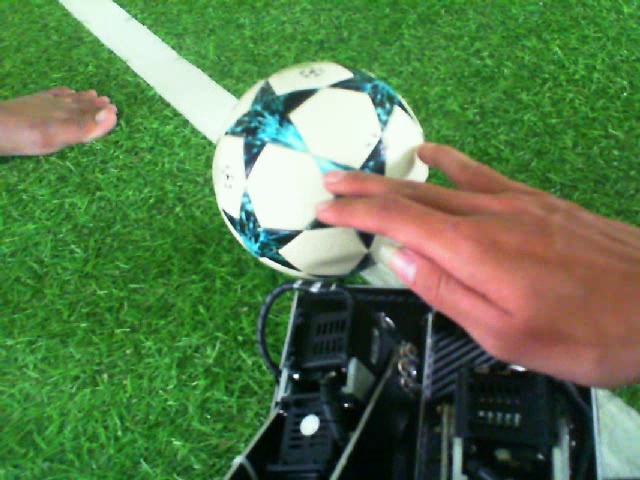ball: (210, 57, 432, 287)
